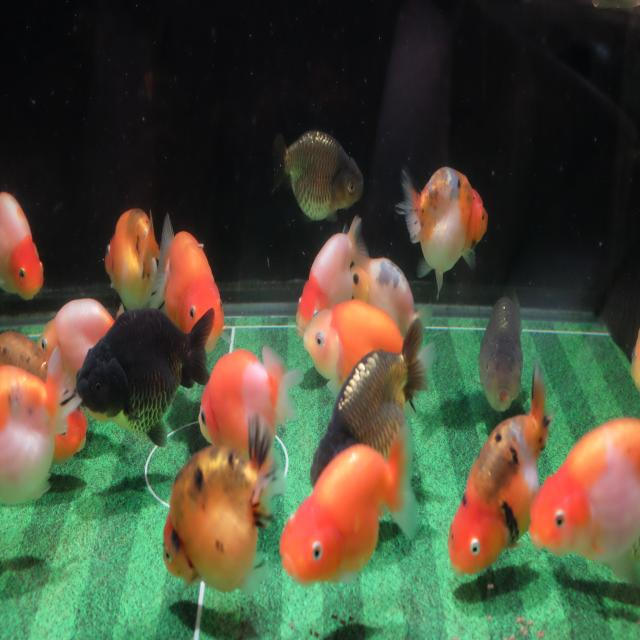Tilapia: (276, 422, 421, 589), (162, 412, 288, 600), (445, 361, 553, 580), (310, 316, 430, 492), (74, 305, 216, 450), (527, 416, 640, 591), (394, 162, 489, 304), (1, 347, 82, 508), (148, 213, 232, 357), (196, 346, 304, 450), (269, 126, 365, 224), (295, 215, 369, 340), (349, 254, 432, 350), (477, 286, 526, 414), (104, 205, 160, 309), (0, 190, 45, 303)
